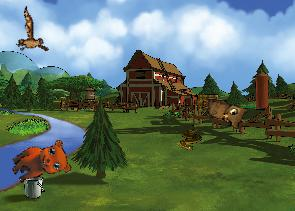bear: (6, 132, 76, 196)
eagle: (1, 6, 59, 64)
owl: (199, 98, 248, 130)
